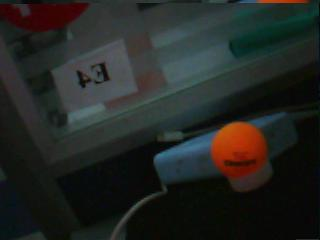oball: (210, 121, 266, 178)
